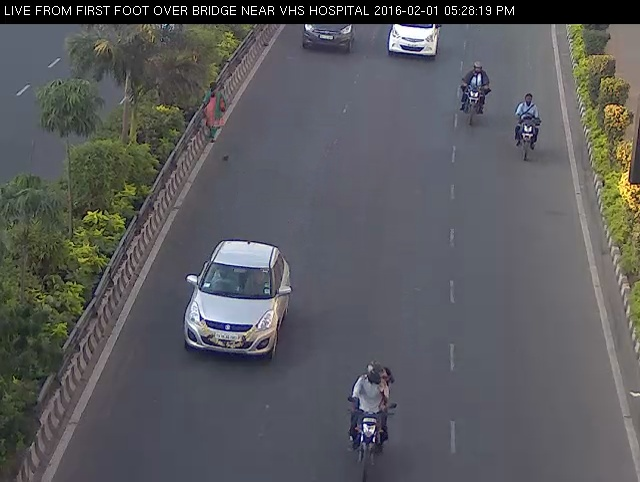Car: (178, 229, 297, 366), (292, 21, 364, 59), (381, 23, 445, 64)
Person: (342, 356, 403, 481), (503, 83, 550, 168), (455, 51, 495, 133), (195, 71, 232, 148)
